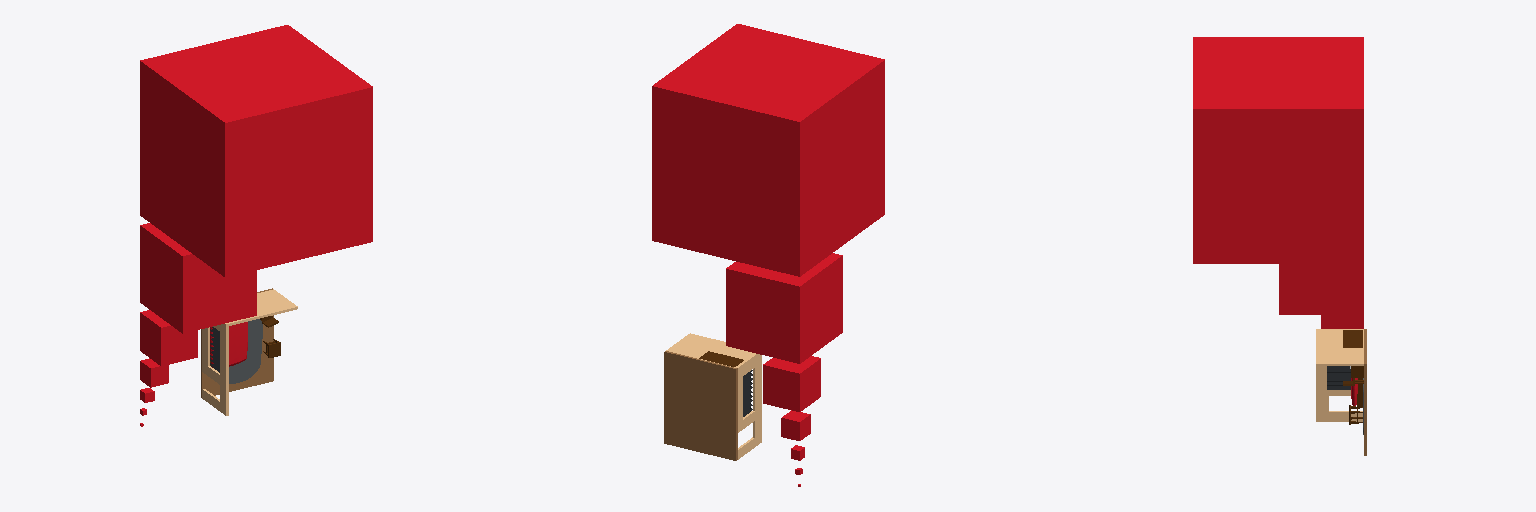
The model's file is tinker.obj.
The picture shows the model from 3 angles: view 1: azimuth 30°, elevation 25°; view 2: azimuth 150°, elevation 25°; view 3: azimuth 270°, elevation 25°; orthographic projection.
Parts seen in each view (by area): view 1: obj_17, obj_16, obj_15, obj_2, obj_0, obj_5, obj_1, obj_10, obj_14; view 2: obj_17, obj_16, obj_0, obj_15, obj_2, obj_1, obj_14; view 3: obj_17, obj_16, obj_1, obj_2, obj_10, obj_15.
Boxes of the visible parts, box(x1,y1,x2,y2) form: obj_17: box(140, 25, 372, 277); obj_16: box(140, 223, 256, 333); obj_15: box(140, 310, 197, 366); obj_2: box(202, 323, 228, 415); obj_0: box(201, 288, 273, 397); obj_5: box(229, 319, 262, 383); obj_1: box(225, 289, 297, 325); obj_10: box(210, 322, 247, 367); obj_14: box(140, 358, 168, 387); obj_17: box(652, 24, 884, 276); obj_16: box(726, 253, 842, 363); obj_0: box(664, 351, 737, 460); obj_15: box(763, 356, 820, 411); obj_2: box(736, 353, 761, 459); obj_1: box(666, 333, 756, 367); obj_14: box(781, 410, 810, 440); obj_17: box(1193, 37, 1363, 263); obj_16: box(1279, 264, 1363, 314); obj_1: box(1316, 329, 1363, 365); obj_2: box(1316, 329, 1363, 421); obj_10: box(1343, 330, 1362, 406); obj_15: box(1321, 315, 1363, 328).
Bounding box in the file's own units: 64 × 151 × 65.